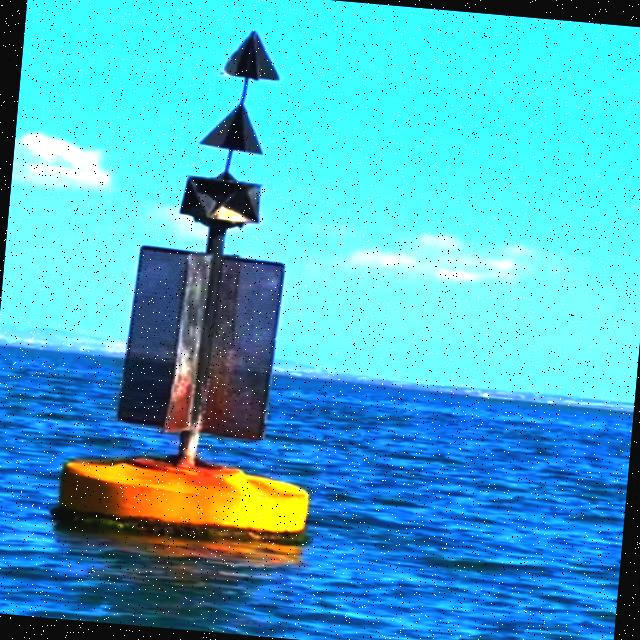marque: (48, 14, 363, 556)
